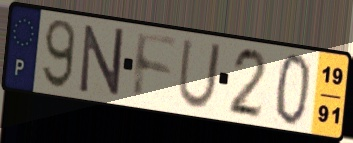0: (272, 52, 313, 128)
2: (227, 46, 271, 121)
9: (39, 17, 79, 91)
F: (132, 29, 180, 103)
N: (78, 23, 126, 98)
U: (175, 37, 224, 112)
